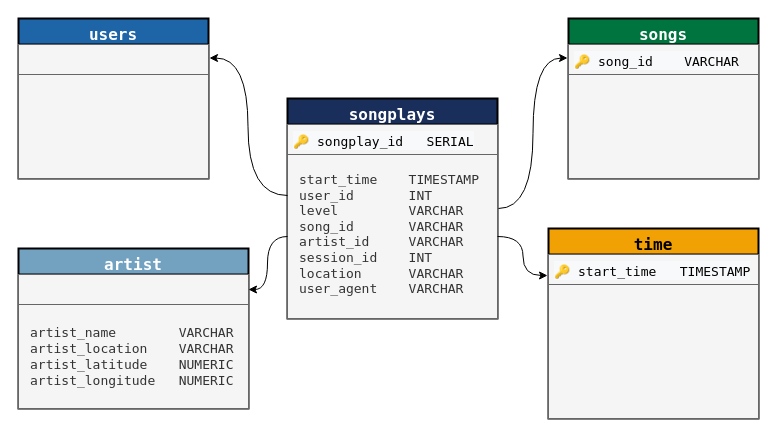
Some shapes in this 776 by 436 pixel diagram are drawn without their labels. The centre of each missing label's shape, as x and y in pixels:
"first_name VARCHAR last_name VARCHAR gender VARCHAR level VARCHAR" belongs at point 113,126.
"hour INT day INT week INT month INT year INT weekday INT" belongs at point 653,351.
"title VARCHAR artist_id vARCHAR year INT duration DECIMAL" belongs at point 663,126.
"🔑 artist_id VARCHAR" belongs at point 133,289.
"🔑 user_id INT" belongs at point 113,59.
